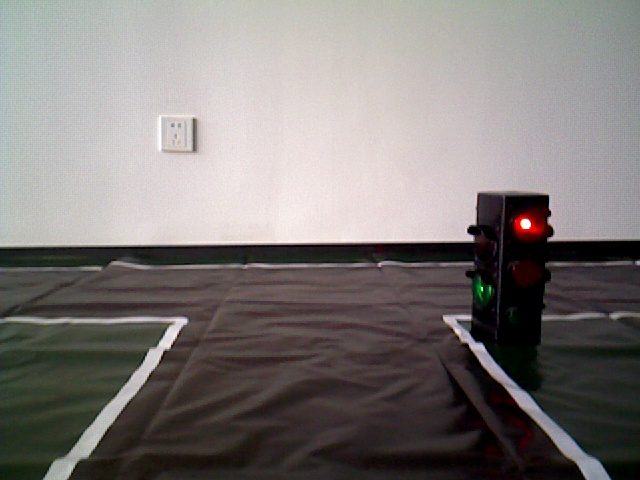red: (476, 194, 545, 350)
